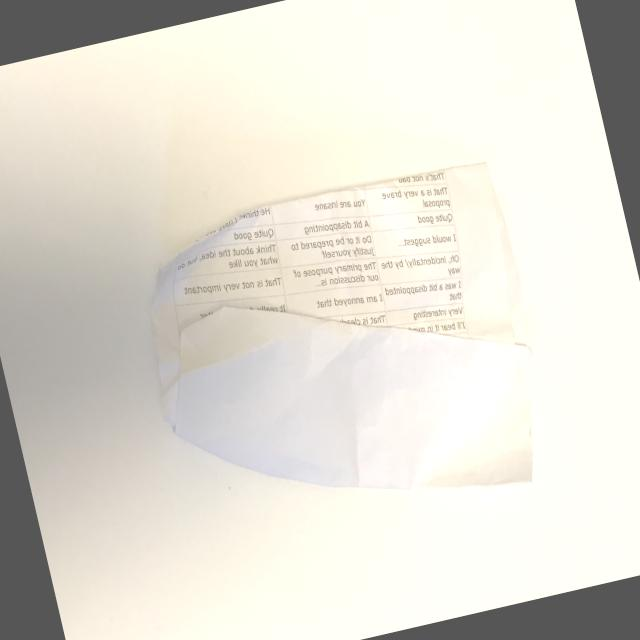Paper: (93, 135, 594, 567)
